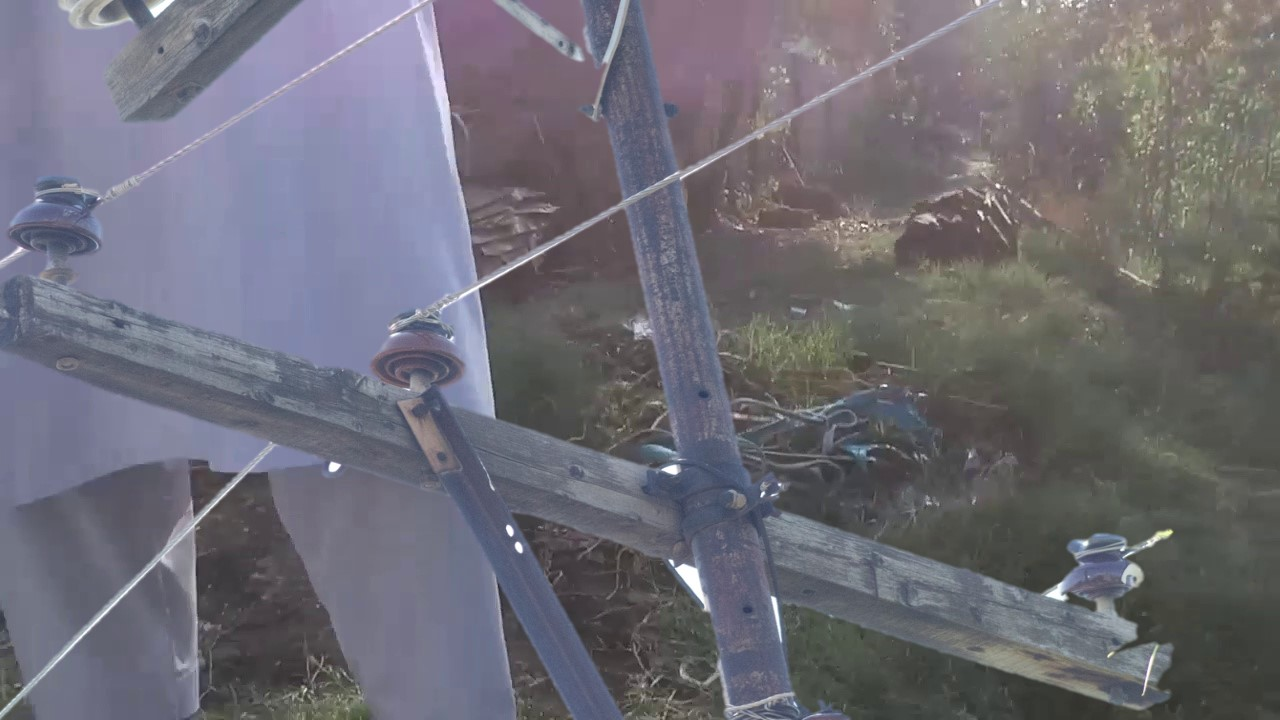defect_pin: (1055, 527, 1152, 606)
insulator_pin: (6, 173, 108, 260), (367, 307, 471, 392)
